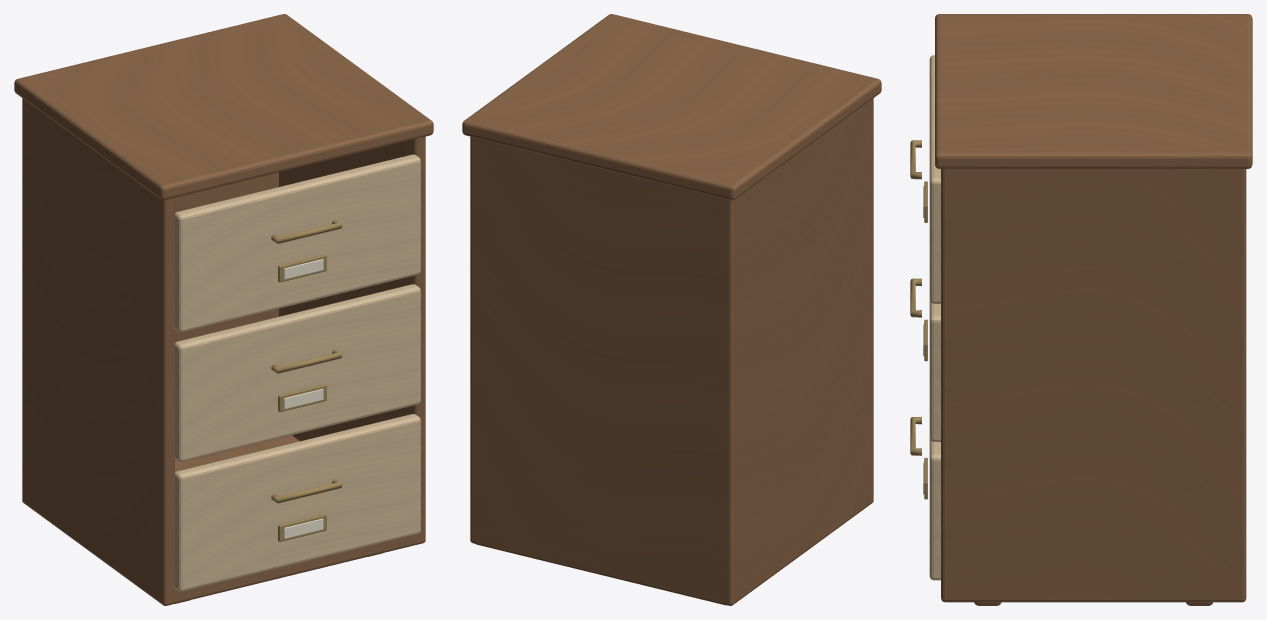
Rendered from cabinet-1.glb.
The picture shows the model from 3 angles, left to right: view 1: azimuth 30°, elevation 25°; view 2: azimuth 150°, elevation 25°; view 3: azimuth 270°, elevation 25°; orthographic projection. The views are drawn at different scales.
Visible parts, largest first — view 1: Cabinet side, Cabinet top, Drawer front.001, Drawer front.002, Drawer front, Cabinet side.001, Cabinet base, Cabinet back; view 2: Cabinet back, Cabinet side, Cabinet top, Cabinet side.001, Cabinet base; view 3: Cabinet side.001, Cabinet top, Drawer front.002, Drawer front, Drawer front.001, Cabinet back, Cabinet side.
Boxes of the visible parts, x1,y1,x2,y2 form: Cabinet side: (22, 79, 174, 605); Cabinet top: (14, 14, 433, 200); Drawer front.001: (174, 284, 420, 461); Drawer front.002: (174, 154, 420, 332); Drawer front: (174, 414, 420, 591); Cabinet side.001: (277, 17, 425, 544); Cabinet base: (26, 435, 425, 605); Cabinet back: (29, 18, 281, 342); Cabinet back: (475, 117, 729, 605); Cabinet side: (723, 78, 873, 605); Cabinet top: (462, 14, 881, 200); Cabinet side.001: (470, 17, 618, 543); Cabinet base: (470, 488, 872, 605); Cabinet side.001: (941, 147, 1246, 602); Cabinet top: (935, 14, 1252, 168); Drawer front.002: (929, 55, 940, 303); Drawer front: (929, 438, 940, 580); Drawer front.001: (929, 300, 940, 441); Cabinet back: (1233, 19, 1243, 148); Cabinet side: (945, 16, 1242, 19).
Bounding box in the file's own units: 0.54 × 0.8295 × 0.5492.
Materials: 4 (2 with a texture image).
